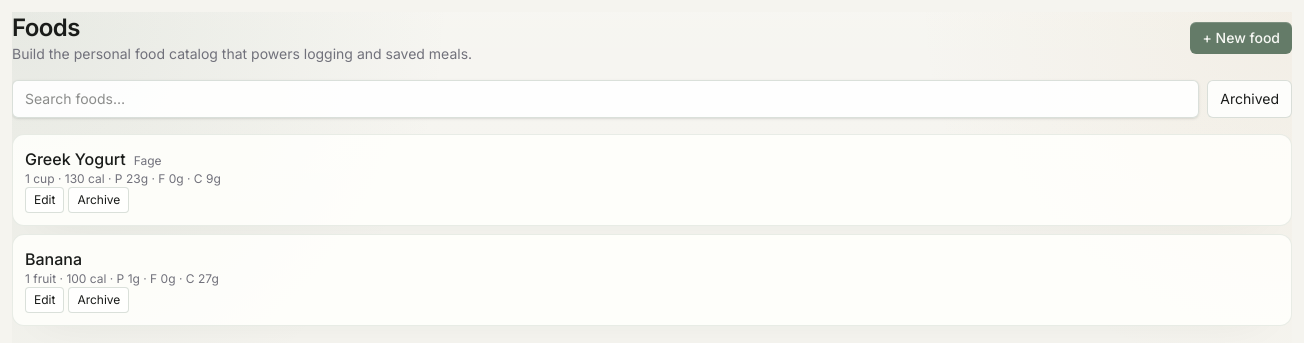
FoodsList › filters foods by name and brand
Type "fage" into the search field with placeholder "Search foods…" at (606, 99), box [12,80,1199,118]
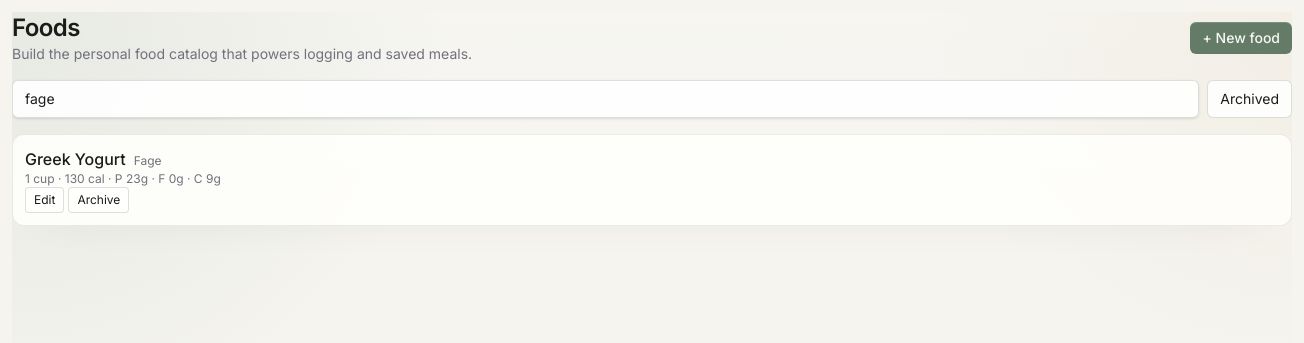
Expected: the text "Greek Yogurt" is shown, [25,147,126,171]
Expected: the text "Banana" is gone
